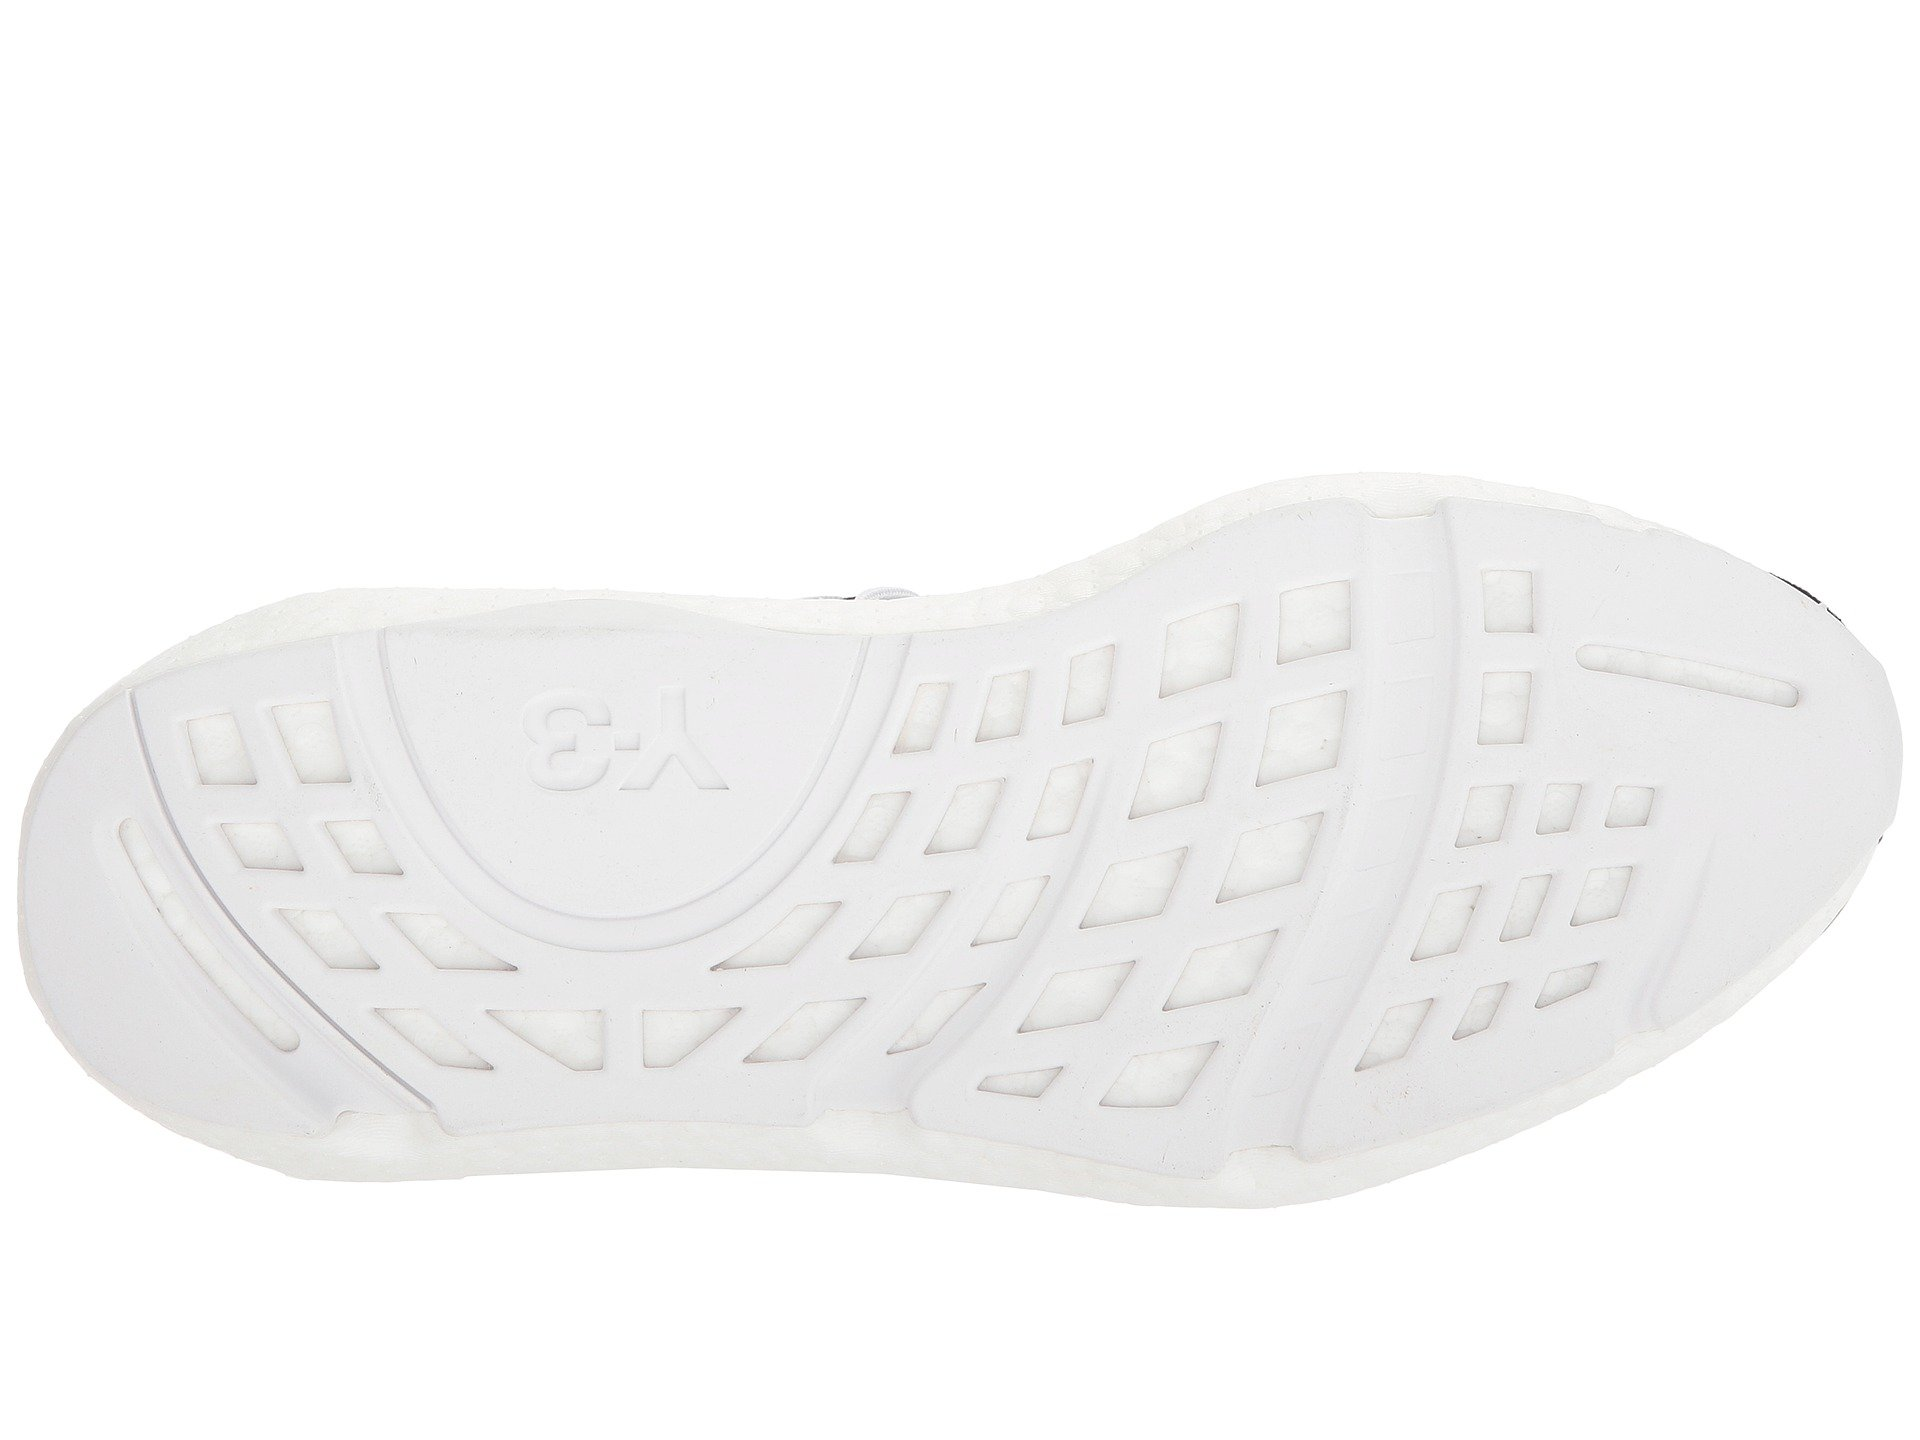quad: (818, 753, 1287, 1142), (1383, 741, 1678, 1038), (136, 687, 395, 986)
text: (482, 638, 766, 861)
